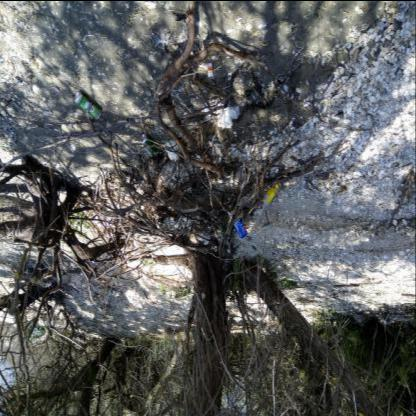Bottle: (276, 182, 280, 186)
Bottle cap: (255, 183, 279, 218)
Can: (74, 90, 102, 118), (140, 132, 158, 154), (233, 217, 248, 238)
Carton: (207, 61, 212, 76)
Plastic bag - wrapper: (202, 101, 240, 128), (165, 140, 182, 160)
